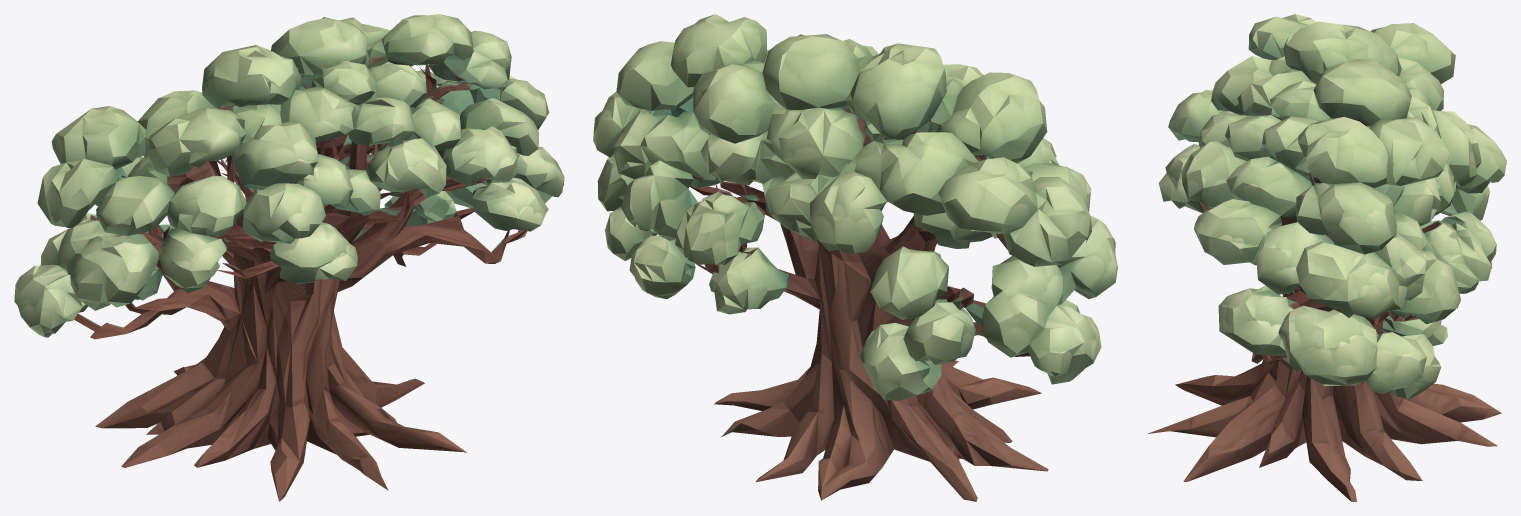
The model's file is swing_tree.glb.
3 renders of one model, left to right at view 1: azimuth 30°, elevation 25°; view 2: azimuth 150°, elevation 25°; view 3: azimuth 270°, elevation 25°, orthographic. The views are drawn at different scales.
Bounding box in the file's own units: 1.9 × 1.36 × 1.15.
Materials: 1 (1 with a texture image).
